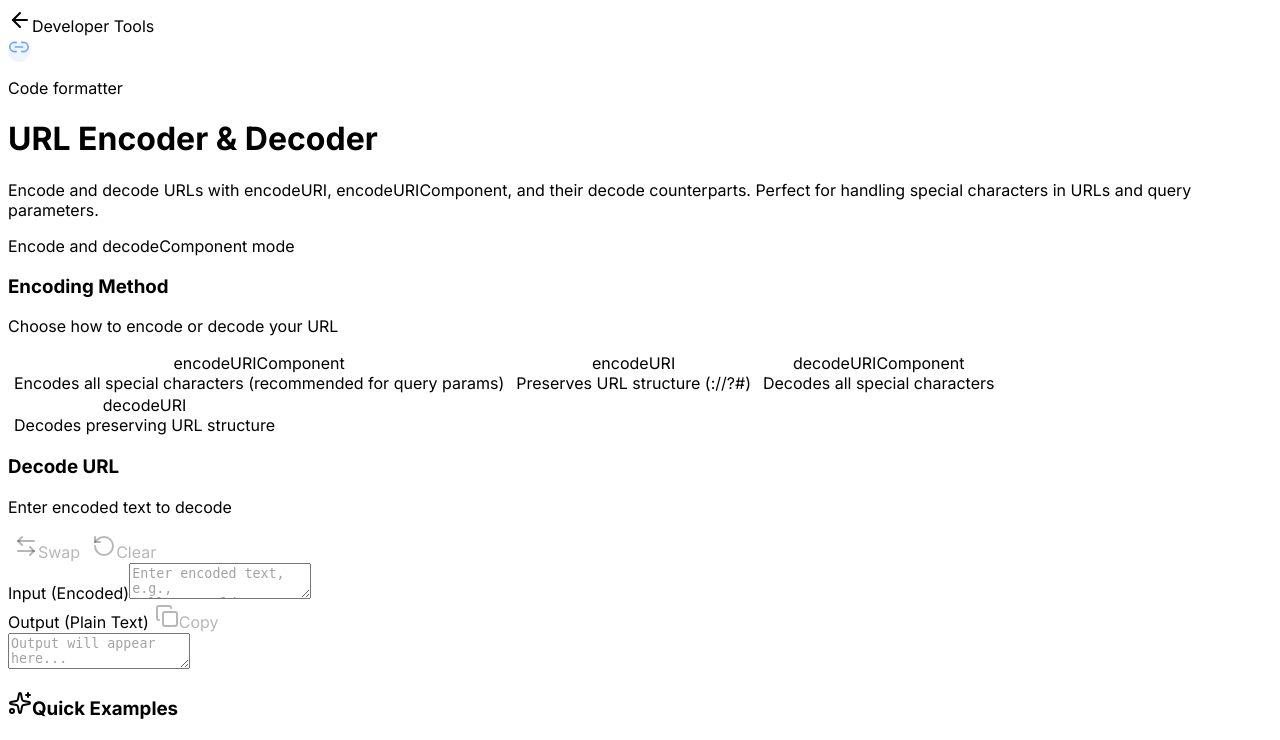
URLEncoderPage › Error Handling › clears error when input is corrected
The image size is (1280, 740).
Step 1. Type "%GG" into the text box labelled "Input (Encoded)" → (220, 581), box [129,563,311,599]
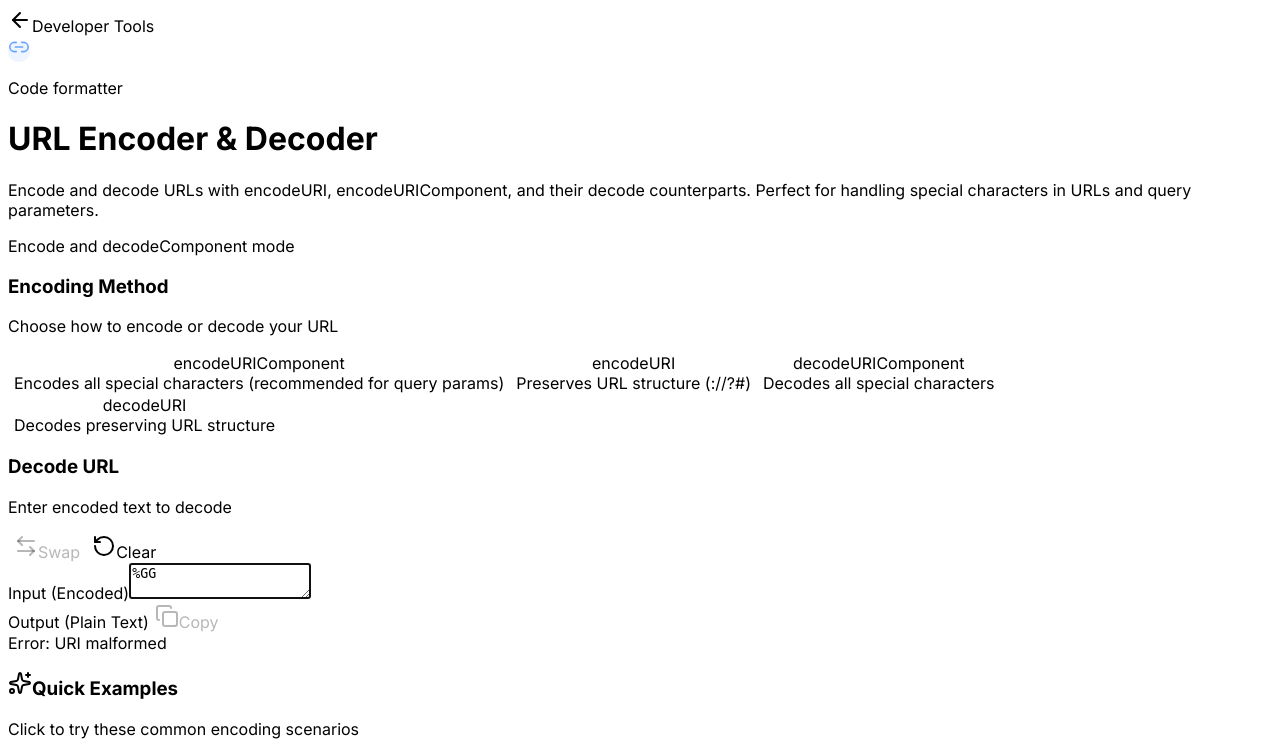
Expected: the text "Error: URI malformed" is shown, [8,633,167,653]
// Clear the input
Step 2. Clear the text box labelled "Input (Encoded)" → (220, 581), box [129,563,311,599]
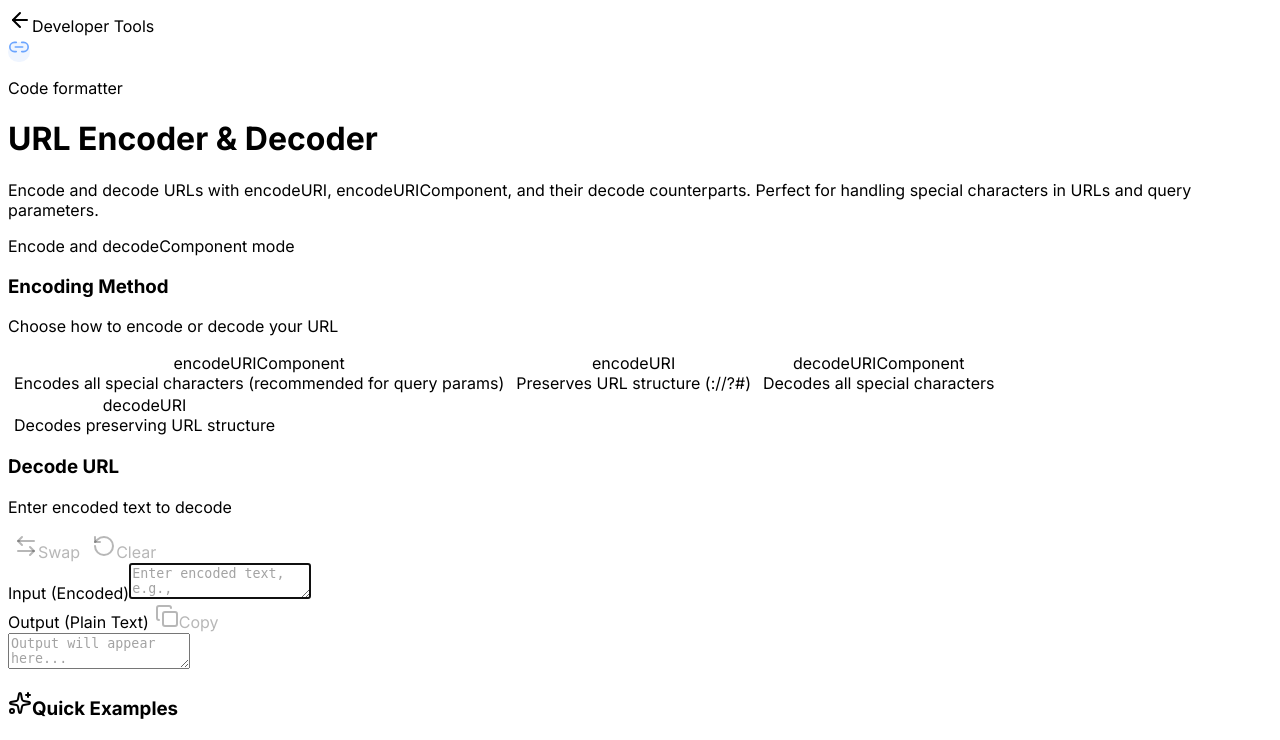
Expected: the text "Error:" is gone
